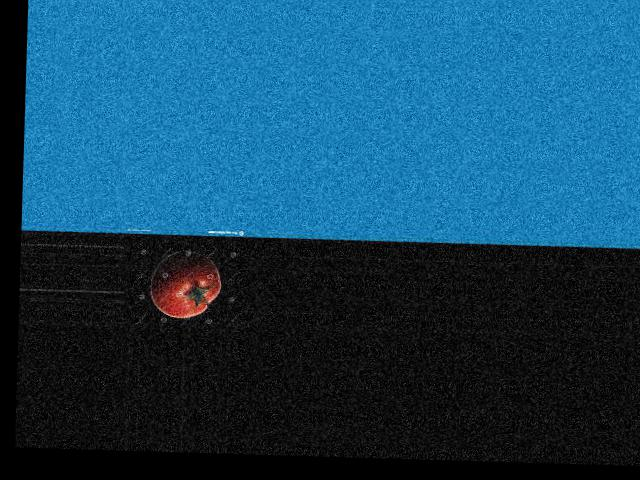tomato: (148, 249, 221, 318)
